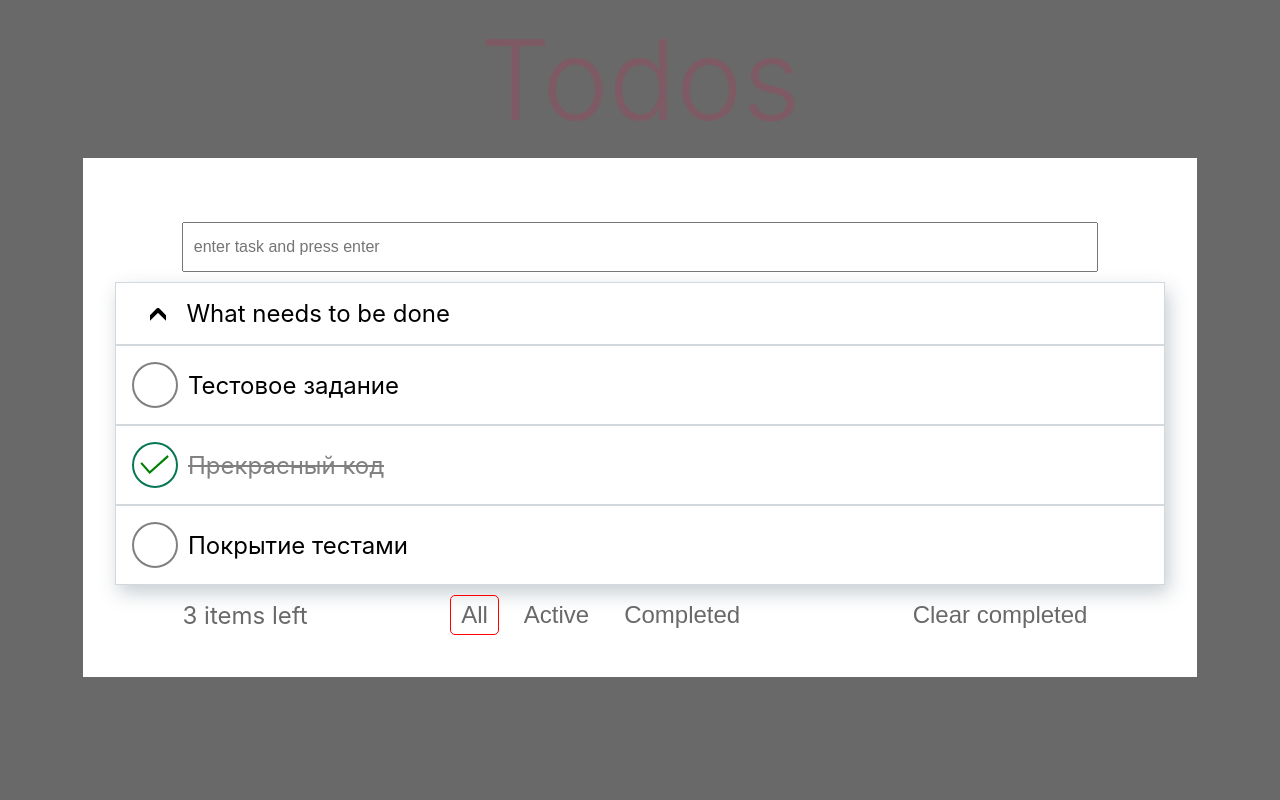
Test: TodosPage › filters checking › completed button is pushed and completed todo stays only
The image size is (1280, 800).
Click the button with test id "completed_btn".
click(682, 615)  # box [614, 596, 750, 634]
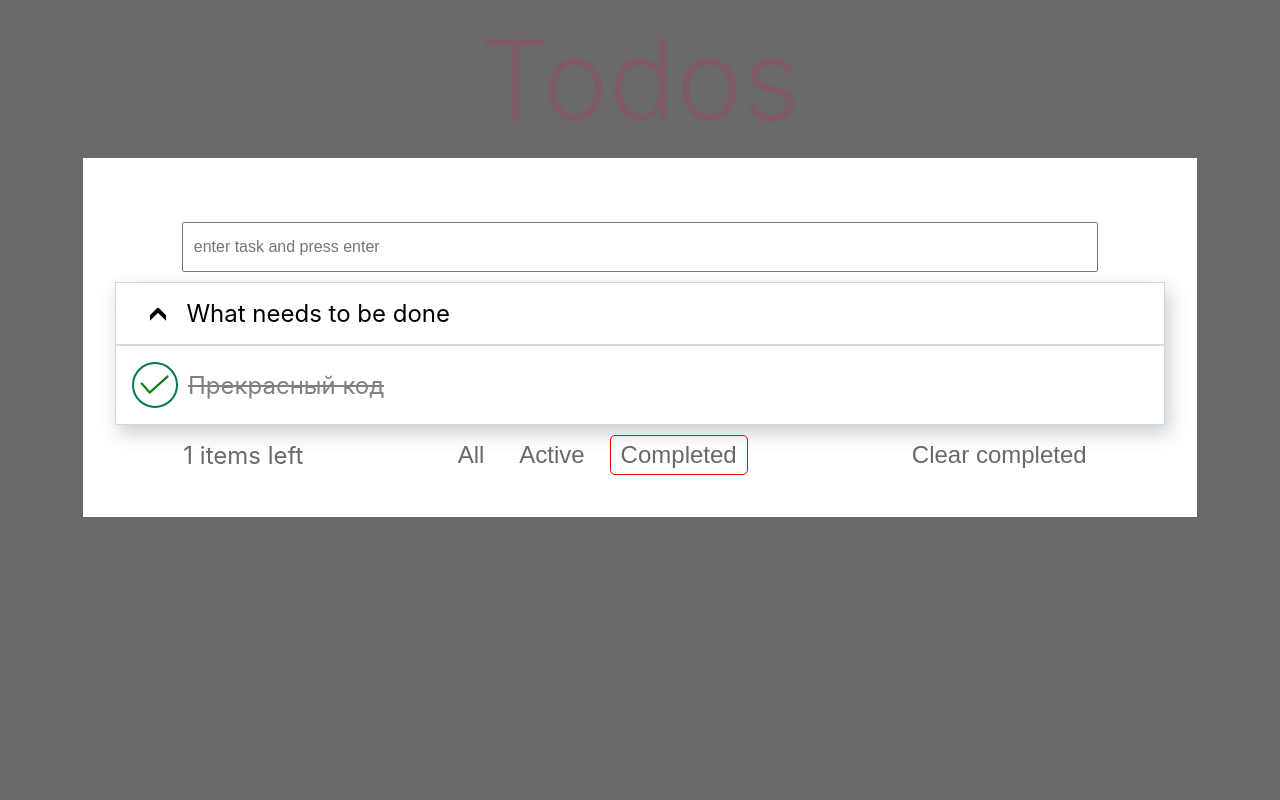
Expected: the text "Прекрасный код" is shown, [188, 371, 384, 400]
Expected: the text "Тестовое задание" is gone
Expected: the text "Покрытие тестами" is gone
